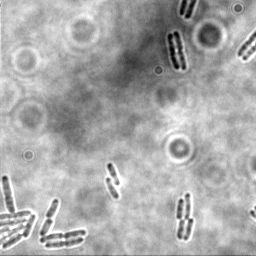Dividing: (38, 198, 60, 237), (39, 229, 87, 244), (172, 31, 187, 71), (237, 27, 256, 58), (166, 32, 181, 71), (44, 237, 84, 250)
Microcolony: (1, 175, 38, 249), (175, 193, 194, 241)
Rod: (106, 162, 121, 187), (105, 177, 121, 200)
